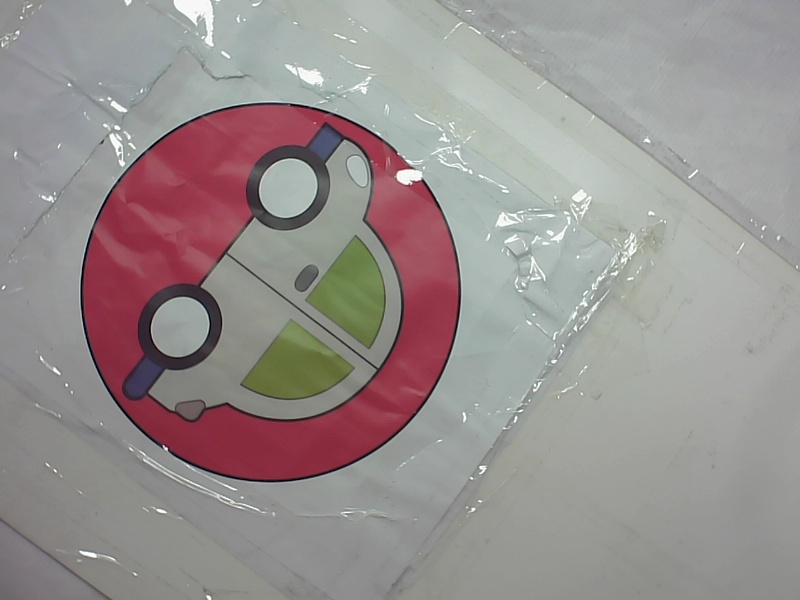areaC: (71, 101, 470, 488)
